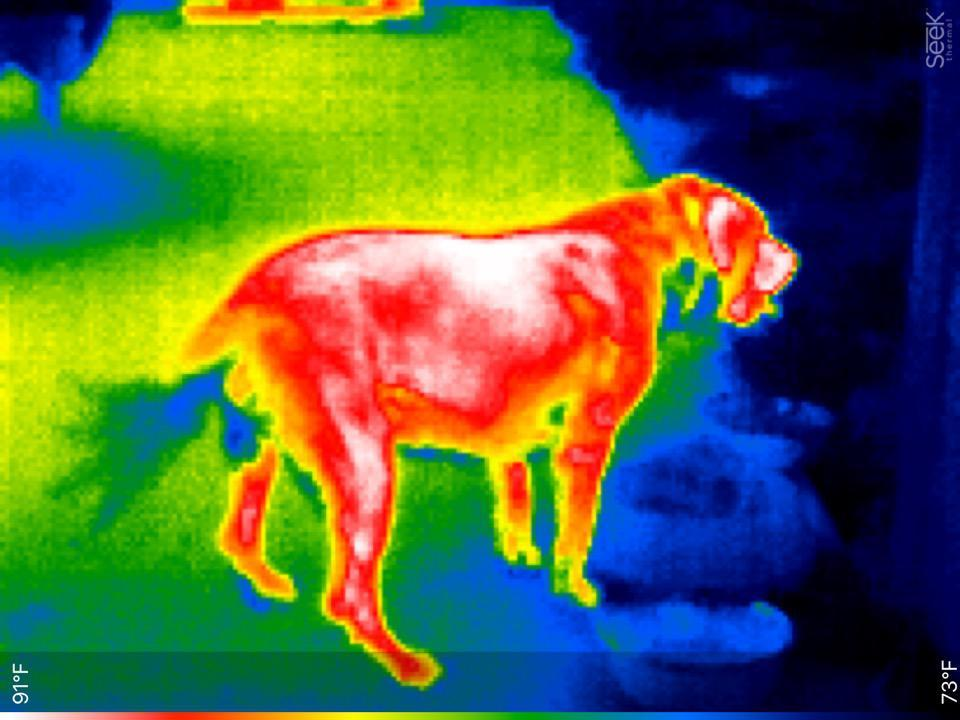dog: (181, 167, 806, 689)
